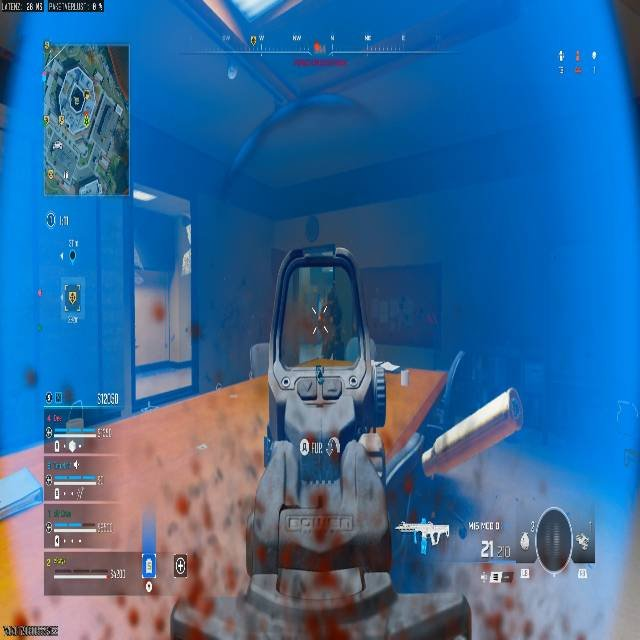player: (311, 292, 342, 360)
